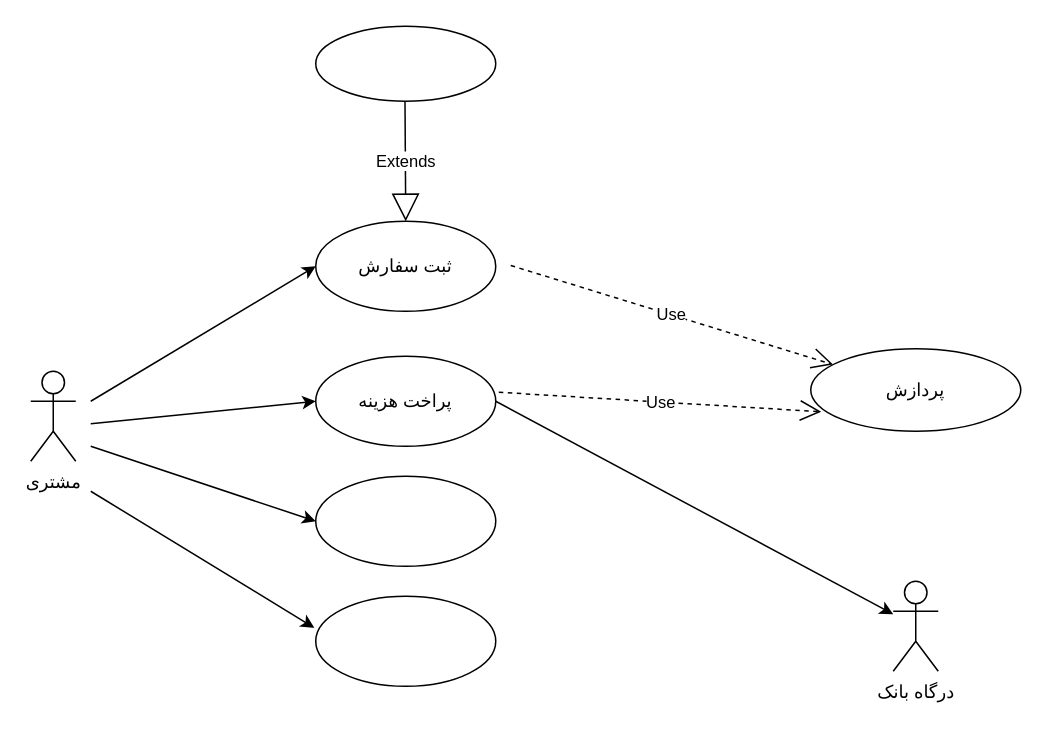
The diagram is 1047 pixels wide and 729 high, and some of its shapes have lost their labels. The centre of each missing label's shape, as x and y in pixels:
صدور فیش خرید کاربر: point (405, 640)
نمایش منوی رستوران: point (405, 520)
کافی نبودن موجودی: point (405, 63)
